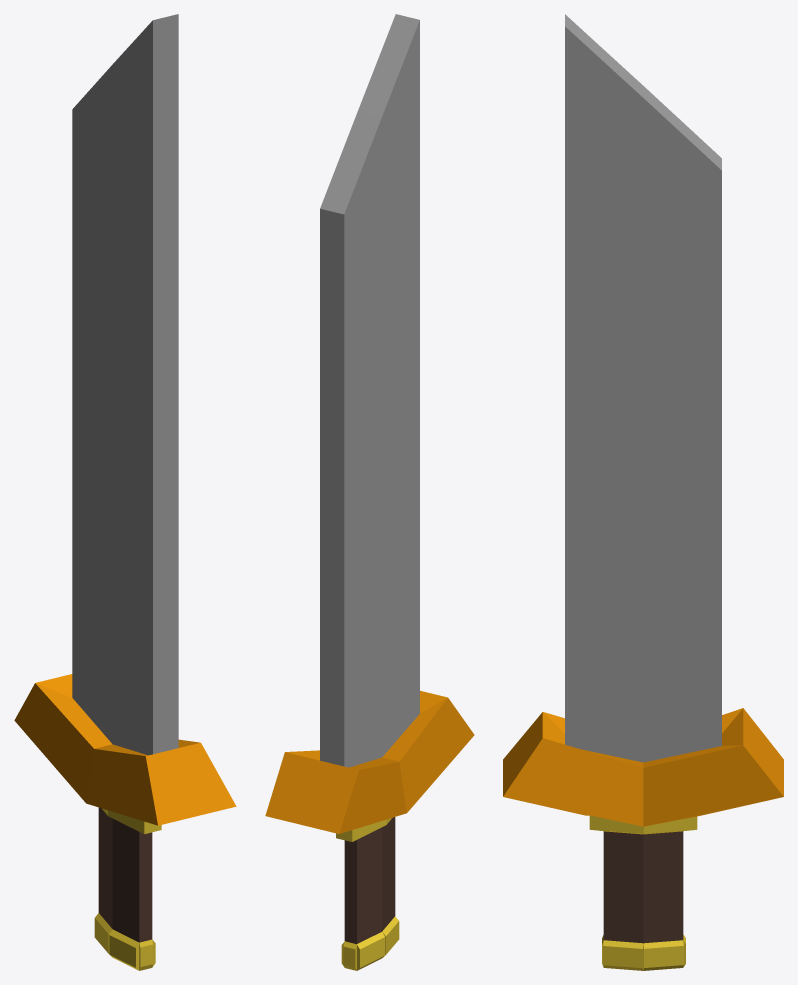
Rendered from big sword.fbx.
3 views of the same model, side by side, from view 1: azimuth 30°, elevation 25°; view 2: azimuth 150°, elevation 25°; view 3: azimuth 270°, elevation 25° (orthographic). The views are drawn at different scales.
Visible parts, largest first — view 1: Cube.001; view 2: Cube.001; view 3: Cube.001.
Part boxes in pixels (x1,y1,x2,y2): Cube.001: [14, 14, 236, 970]; Cube.001: [265, 14, 474, 970]; Cube.001: [503, 14, 783, 970].
Size of the model in its own units: 60.79 by 715 by 193.
